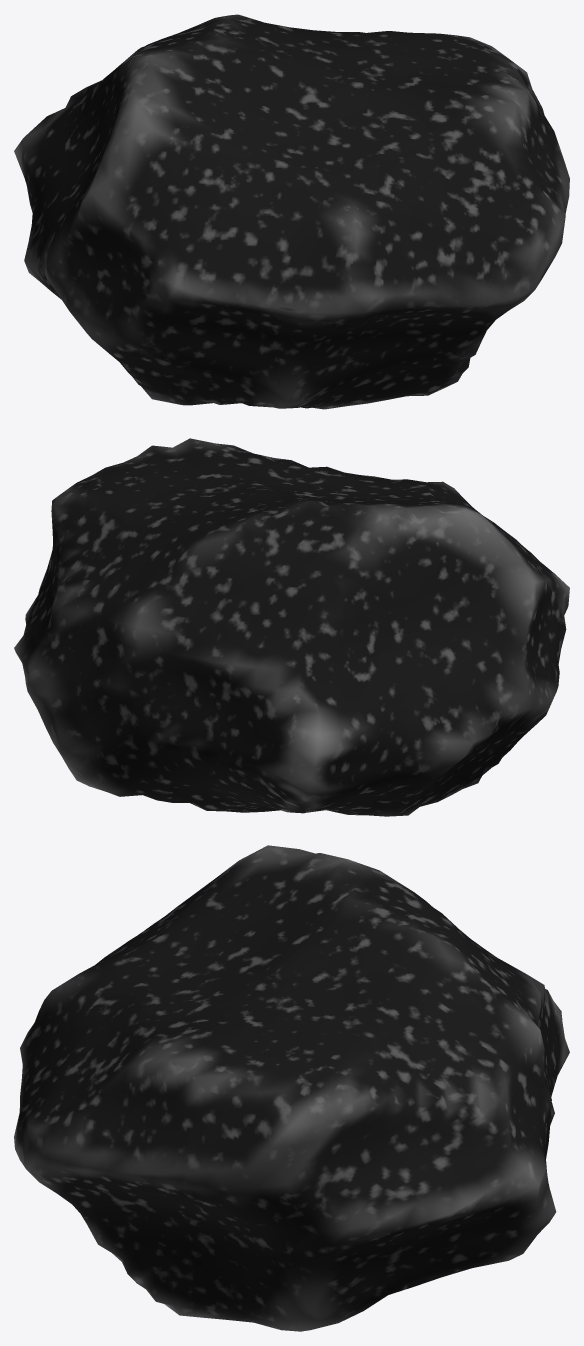
The model's file is lunar_rock6.glb.
3 views of the same model, one above another, from view 1: azimuth 30°, elevation 25°; view 2: azimuth 150°, elevation 25°; view 3: azimuth 270°, elevation 25° (orthographic). The views are drawn at different scales.
Parts seen in each view (by area): view 1: lunar_rock_6; view 2: lunar_rock_6; view 3: lunar_rock_6.
Boxes of the visible parts, bbox=[...] form: lunar_rock_6: bbox=[14, 14, 569, 409]; lunar_rock_6: bbox=[14, 438, 569, 816]; lunar_rock_6: bbox=[14, 845, 569, 1331].
Size of the model in its own units: 0.1773 by 0.1161 by 0.1668.
Materials: 1 (1 with a texture image).
